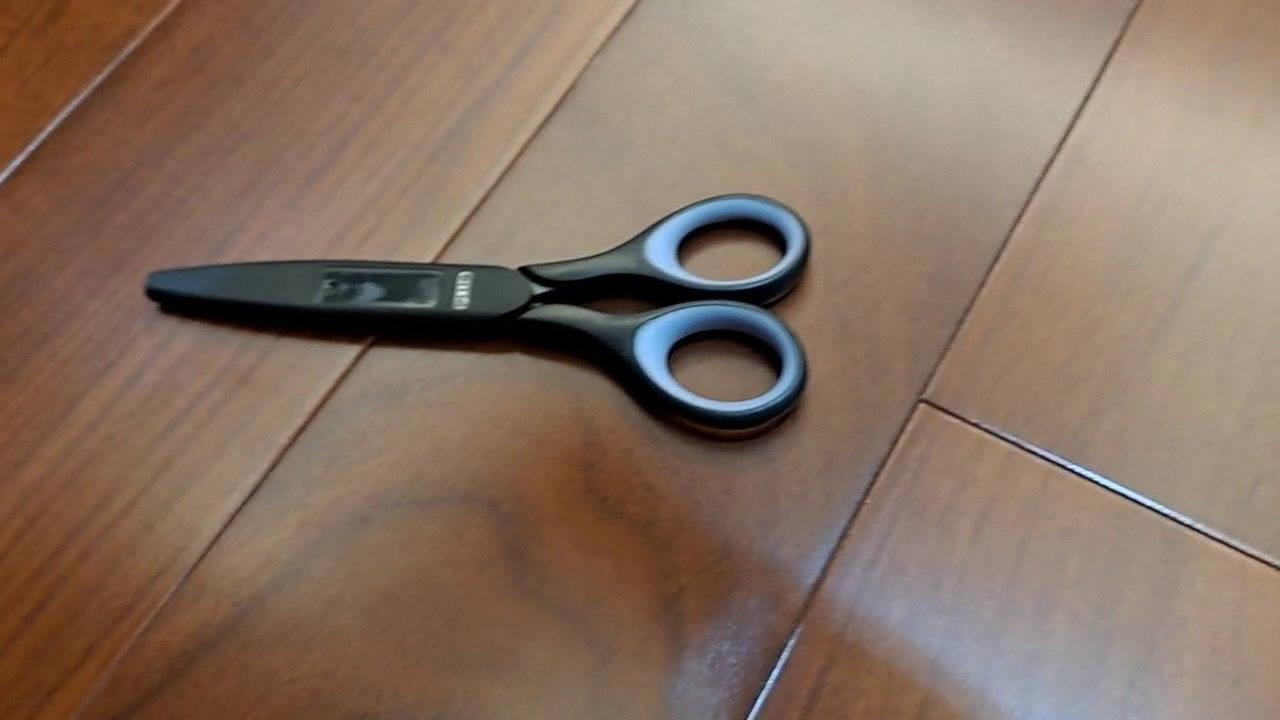scissors: (143, 192, 813, 433)
